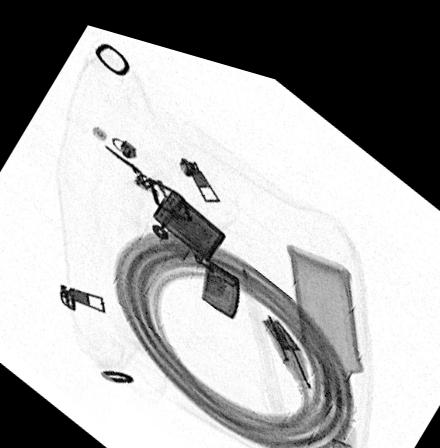Lighter: (148, 179, 240, 307)
